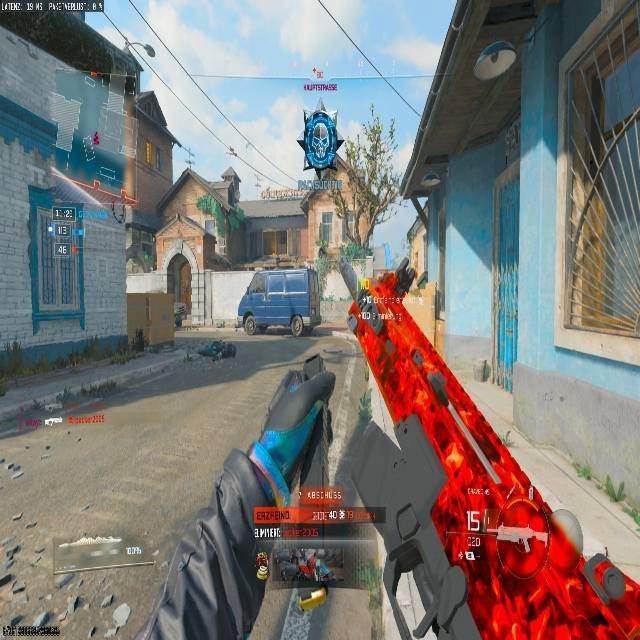player: (172, 304, 189, 332), (174, 305, 184, 328)
